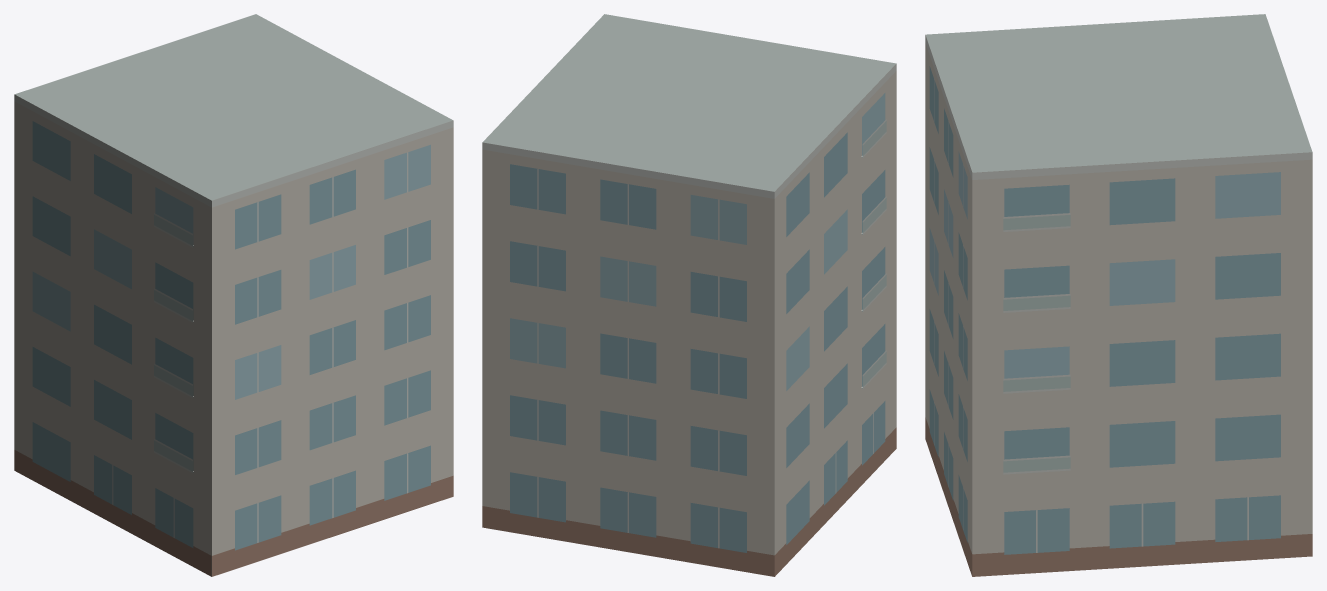
The model's file is survey-upis-32908786.glb.
3 renders of one model, left to right at view 1: azimuth 30°, elevation 25°; view 2: azimuth 150°, elevation 25°; view 3: azimuth 270°, elevation 25°, orthographic. The views are drawn at different scales.
Parts seen in each view (by area): view 1: survey-upis-32908786.tmp; view 2: survey-upis-32908786.tmp; view 3: survey-upis-32908786.tmp.
Boxes of the visible parts, x1=… form: survey-upis-32908786.tmp: x1=14, y1=14, x2=453, y2=576; survey-upis-32908786.tmp: x1=482, y1=14, x2=896, y2=576; survey-upis-32908786.tmp: x1=925, y1=14, x2=1312, y2=576.
Size of the model in its own units: 11.17 by 13.25 by 11.51.
